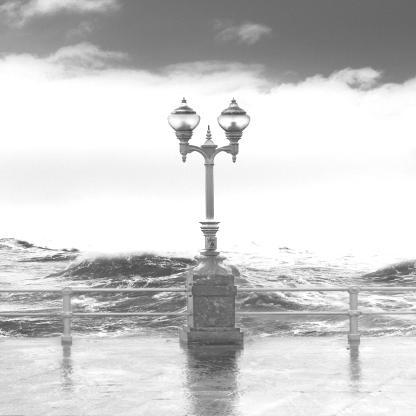light_pole: (166, 97, 252, 283)
